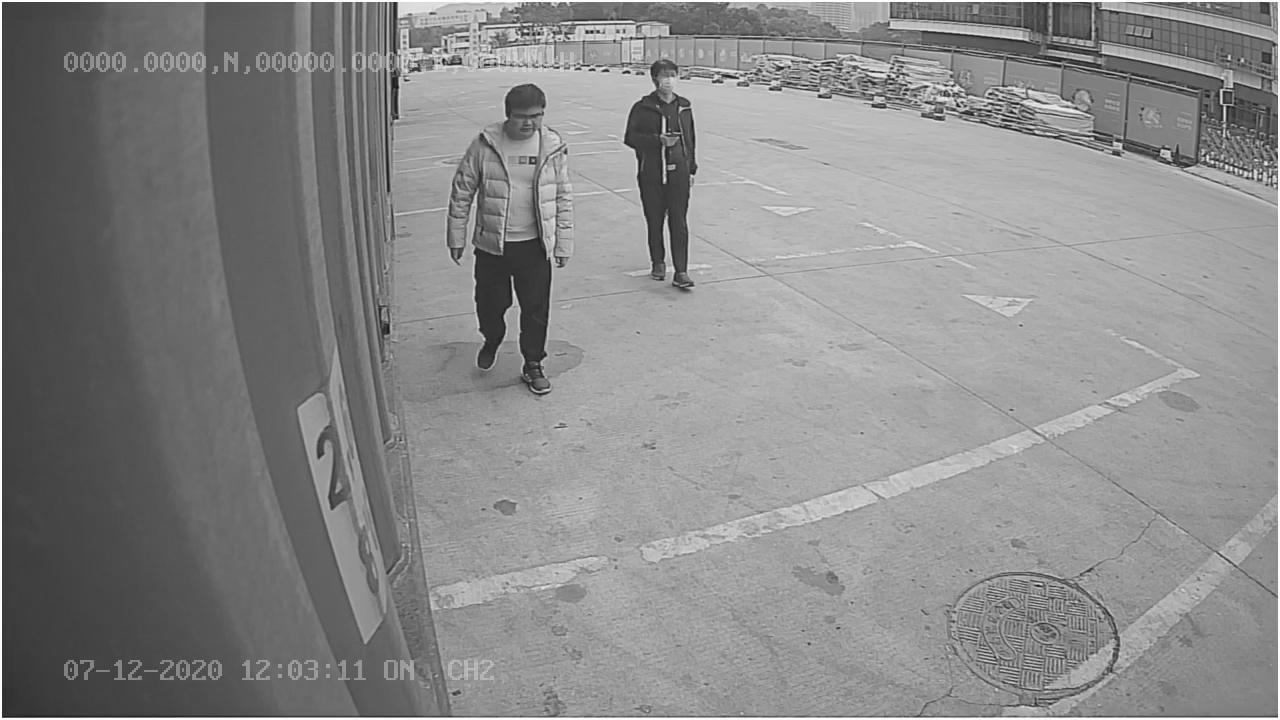person: (445, 81, 580, 398), (621, 51, 706, 291)
